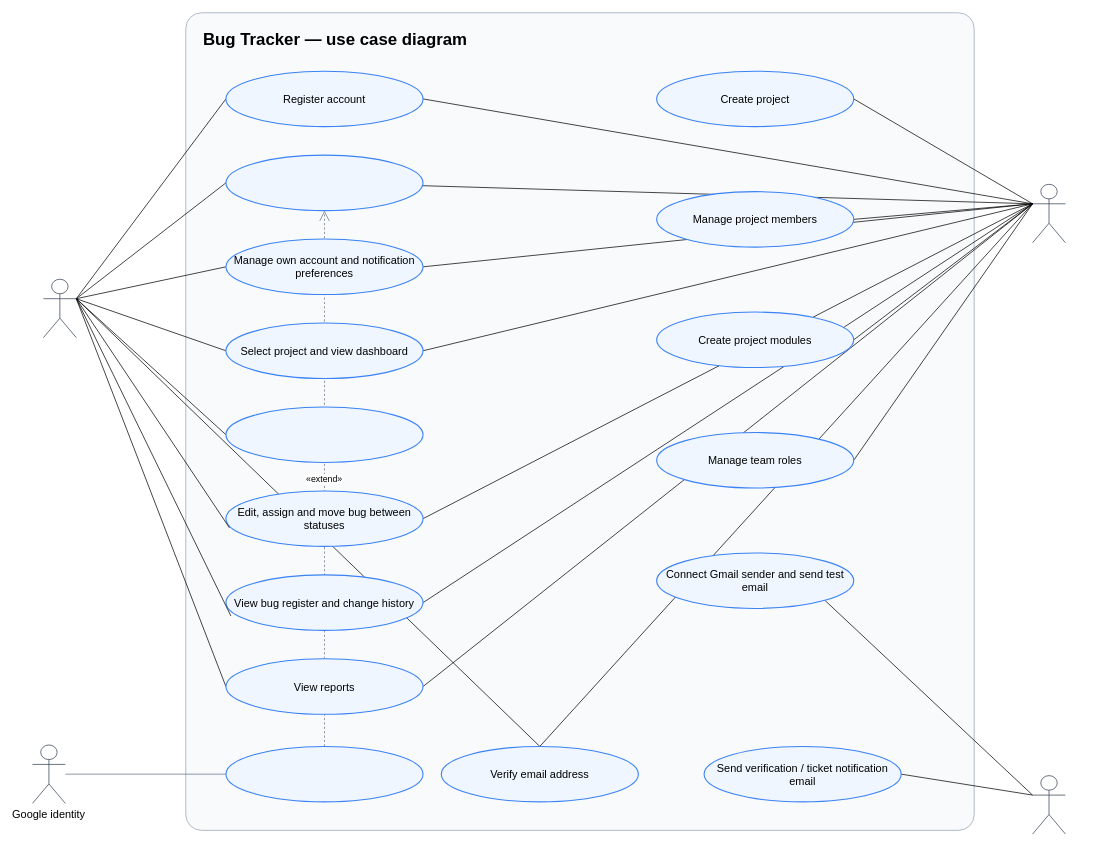
Image size: 1095x864. Some labels were removed from this diagram. Here are the shapes that lost their labels. From the top down, the box of each, then its label:
(225, 154, 423, 211): Sign in / sign out
(1032, 184, 1065, 243): Manager
(43, 278, 76, 338): Project member
(225, 406, 423, 463): Report and document bug
(225, 746, 423, 802): Authenticate with Google
(1032, 775, 1065, 834): Gmail service
